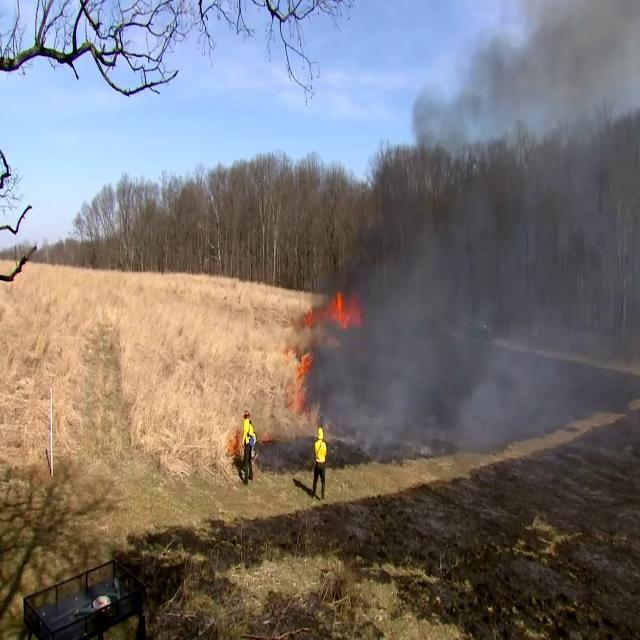Fire: (296, 294, 362, 336), (284, 348, 314, 412), (228, 431, 242, 454)
Smoke: (379, 153, 640, 435), (416, 10, 639, 140)
